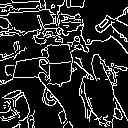cube: (41, 40, 79, 86)
